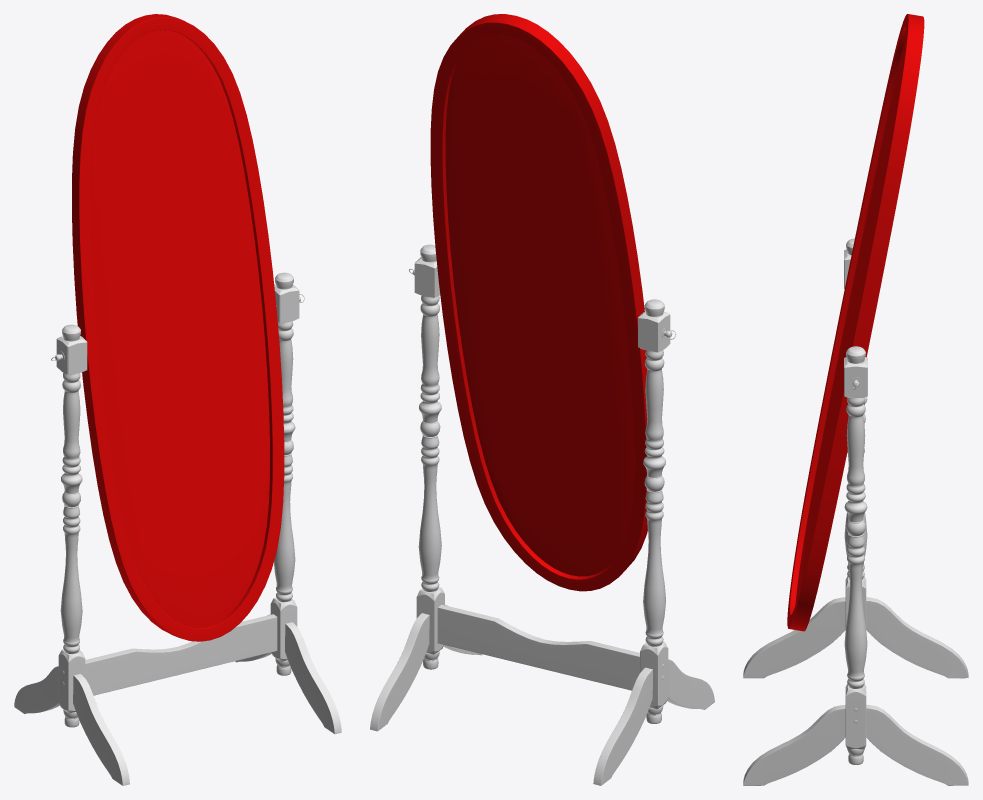
The model's file is Tall_Mirror.fbx.
The picture shows the model from 3 angles, left to right: view 1: azimuth 30°, elevation 25°; view 2: azimuth 150°, elevation 25°; view 3: azimuth 270°, elevation 25°; orthographic projection. The views are drawn at different scales.
Visible parts, largest first — view 1: Tall_Mirror2; view 2: Tall_Mirror2; view 3: Tall_Mirror2.
Part boxes in pixels (x1,y1,x2,y2): Tall_Mirror2: [14, 14, 341, 785]; Tall_Mirror2: [370, 14, 714, 785]; Tall_Mirror2: [743, 14, 968, 785].
Size of the model in its own units: 60.91 by 157 by 45.17.
